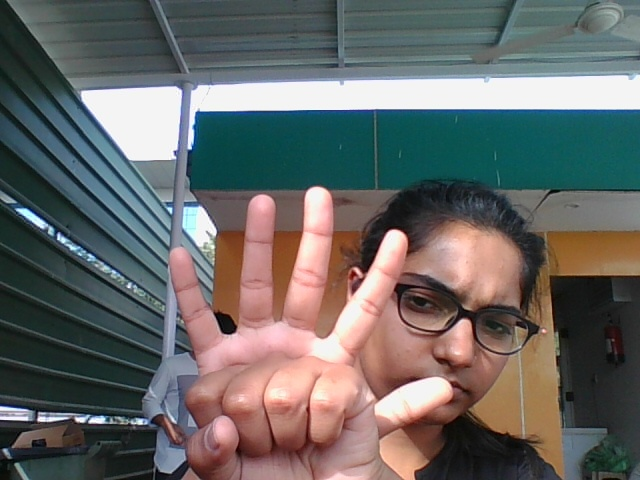coronavirus: (167, 181, 454, 480)
